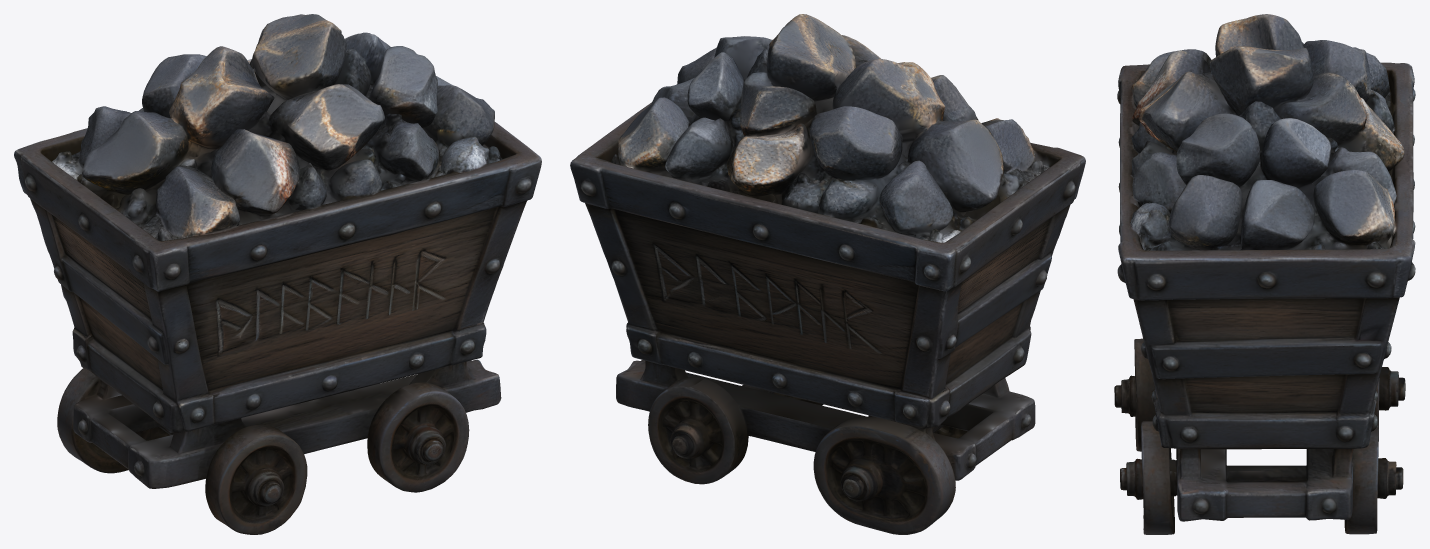
The model's file is minecart.glb.
3 views of the same model, side by side, from view 1: azimuth 30°, elevation 25°; view 2: azimuth 150°, elevation 25°; view 3: azimuth 270°, elevation 25° (orthographic). The views are drawn at different scales.
Visible parts, largest first — view 1: node_0; view 2: node_0; view 3: node_0.
Part boxes in pixels (x1,y1,x2,y2): node_0: (14,14,541,534); node_0: (570,14,1085,534); node_0: (1114,14,1415,534).
Size of the model in its own units: 0.8858 by 0.9532 by 0.5663.
Materials: 1 (1 with a texture image).
